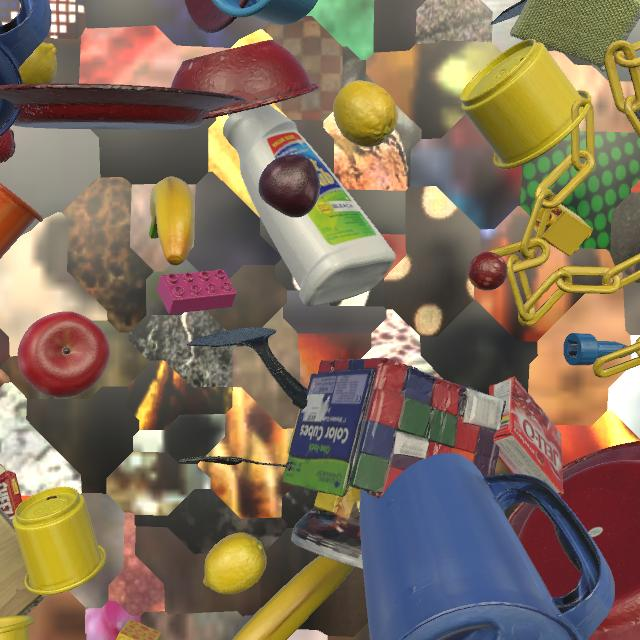ycb_003_cracker_box: (0, 470, 22, 522)
ycb_008_pudding_box: (635, 111, 640, 121)
ycb_009_gelatin_box: (489, 376, 564, 496)
ycb_011_banana: (232, 556, 354, 640), (149, 176, 195, 265)
ycb_012_strawberry: (0, 128, 16, 163)
ycb_013_apple: (17, 311, 110, 398)
ycb_014_lemon: (333, 81, 398, 147), (203, 532, 267, 595), (19, 42, 57, 84)
ycb_018_plum: (258, 154, 320, 218)
